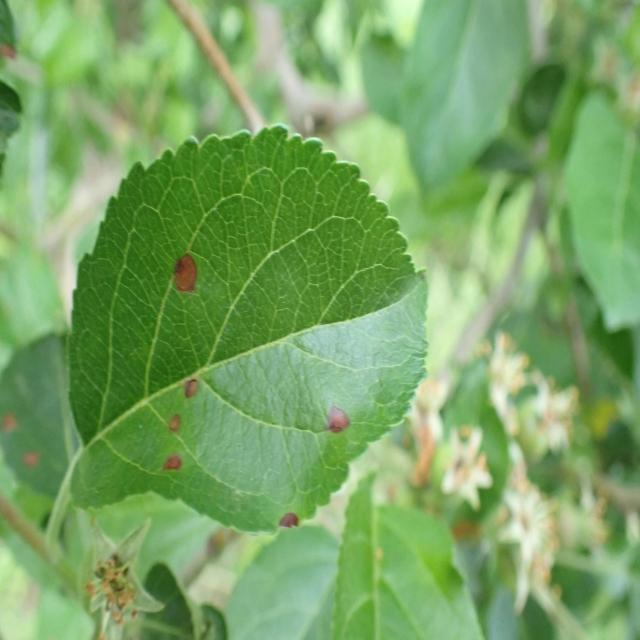Black Rot: (170, 232, 207, 314), (305, 402, 359, 446), (272, 498, 318, 542), (154, 445, 188, 504), (152, 403, 194, 444), (181, 365, 210, 411)
